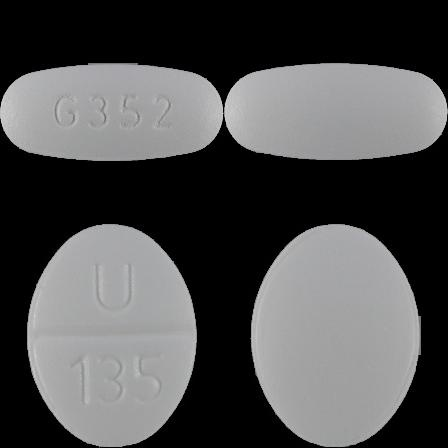61786-653: (0, 0, 224, 224)
